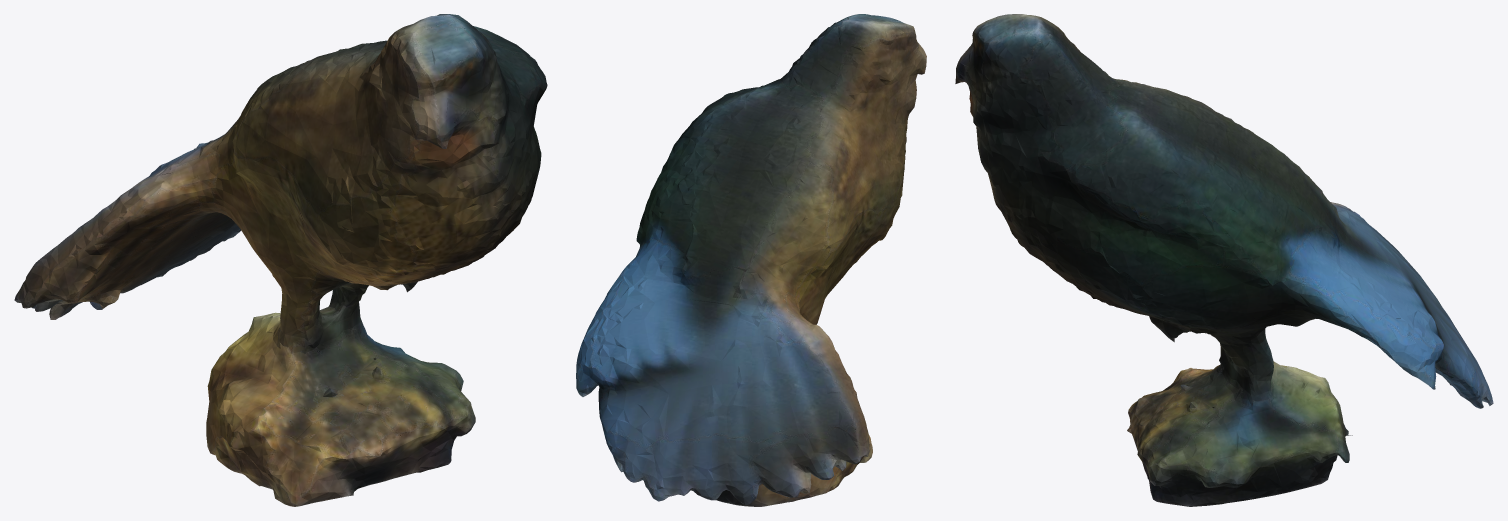
3 renders of one model, left to right at view 1: azimuth 30°, elevation 25°; view 2: azimuth 150°, elevation 25°; view 3: azimuth 270°, elevation 25°, orthographic. The views are drawn at different scales.
Parts seen in each view (by area): view 1: Mesh_0.006; view 2: Mesh_0.006; view 3: Mesh_0.006.
Boxes of the visible parts, x1,y1,x2,y2 form: Mesh_0.006: (14, 14, 547, 506); Mesh_0.006: (576, 14, 926, 506); Mesh_0.006: (955, 14, 1493, 506).
Bounding box in the file's own units: 0.4575 × 0.6006 × 0.6547.
Materials: 1 (1 with a texture image).
